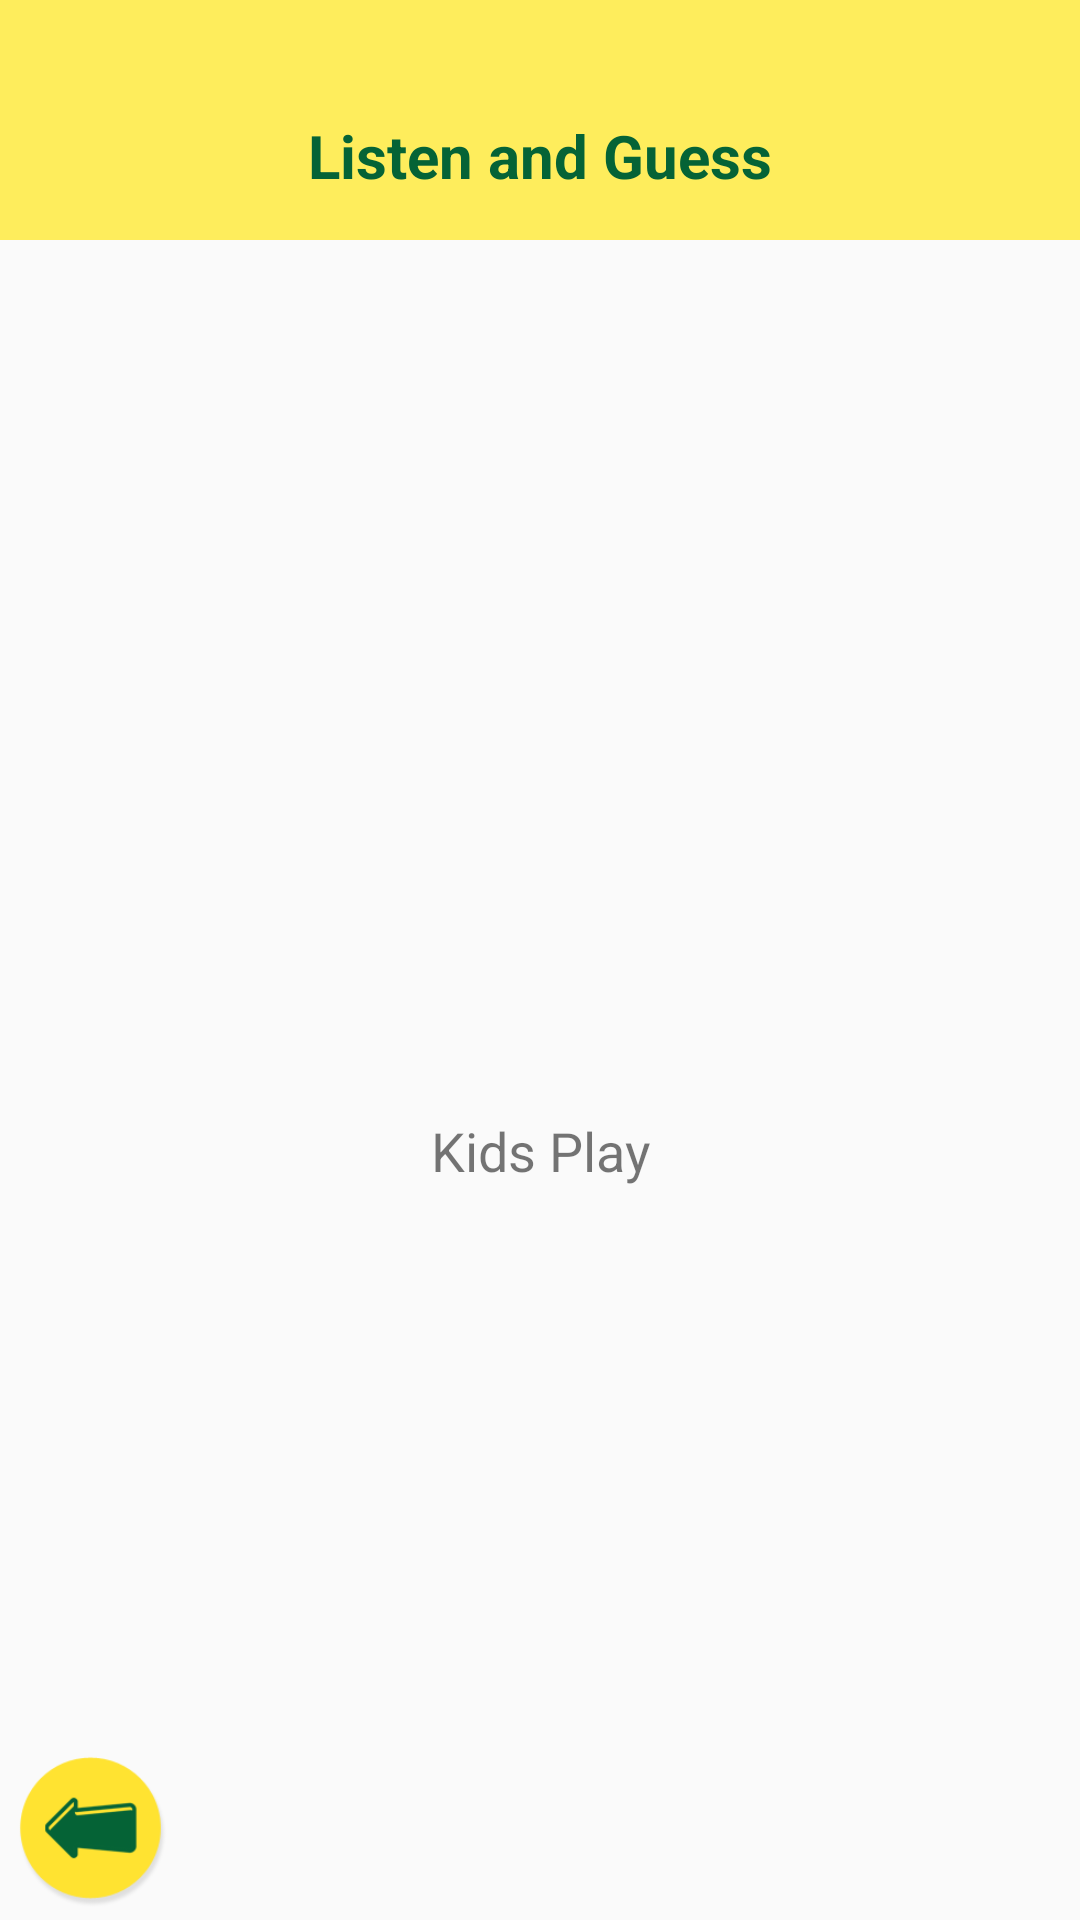

Screen size 1080×1920. Icon name, then its box in pixels as (x1, y1, x2, y2):
prev: (20, 1757, 161, 1901)
